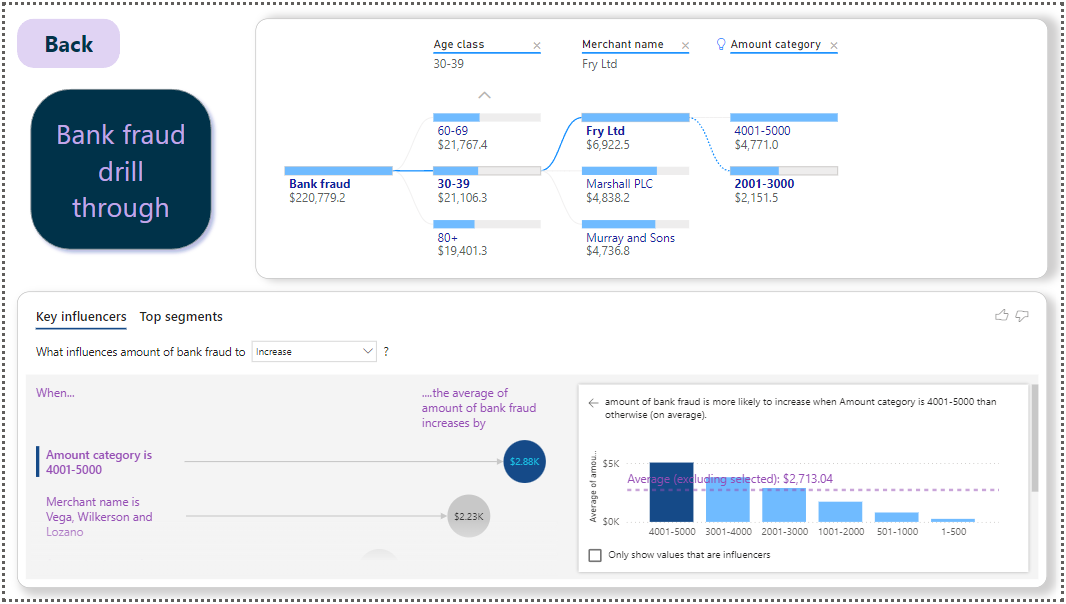

Layout of this report page (visuals, bound fields, positions):
{"tool":"powerbi","page":{"name":"B drill through","canvas":[1280,720],"ordinal":7},"visuals":[{"type":"actionButton","box":[15,16.7,125,60],"z":1000},{"type":"decompositionTreeVisual","fields":{"Analyze":["fraud_dwh f_transaction.amount of bank fraud"],"ExplainBy":["fraud_dwh f_transaction.age_category","fraud_dwh d_merchant.merchant_name","fraud_dwh f_transaction.amount_category"]},"box":[303.8,17,960.4,315.1],"z":2000},{"type":"keyDriversVisual","fields":{"Target":["fraud_dwh f_transaction.amount of bank fraud"],"ExplainBy":["fraud_dwh d_city.city_name","fraud_dwh f_transaction.age_category","fraud_dwh f_transaction.amount_category","fraud_dwh d_merchant.merchant_name"]},"box":[14.8,346.4,1248.7,359.6],"z":3000},{"type":"actionButton","box":[21.4,92.4,237.5,212.8],"z":4000}]}

Visuals, with their boxes in screenshot pixels (x1, y1, x2, y2), scaled from the page's 1280x720 canvas onto the 1066x604 screenshot:
actionButton: <box>12,14,117,64</box>
decompositionTreeVisual - fraud_dwh f_transaction.amount of bank fraud x fraud_dwh f_transaction.age_category: <box>253,14,1053,279</box>
keyDriversVisual - fraud_dwh f_transaction.amount of bank fraud x fraud_dwh d_city.city_name: <box>12,291,1052,592</box>
actionButton: <box>18,78,216,256</box>
